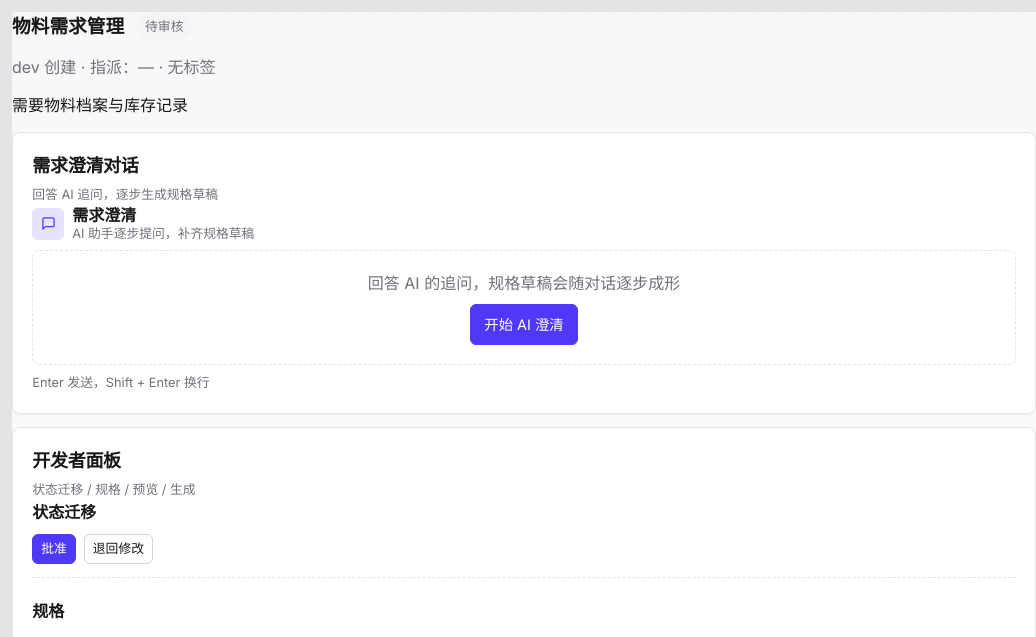
IssueDetail AI 对话（clarify，FR-ISSUE-03） › 开始澄清：首轮无回答→AI 追问渲染为对话
Step 1. Click the button "开始 AI 澄清" → [524, 325], box [470,304,578,345]
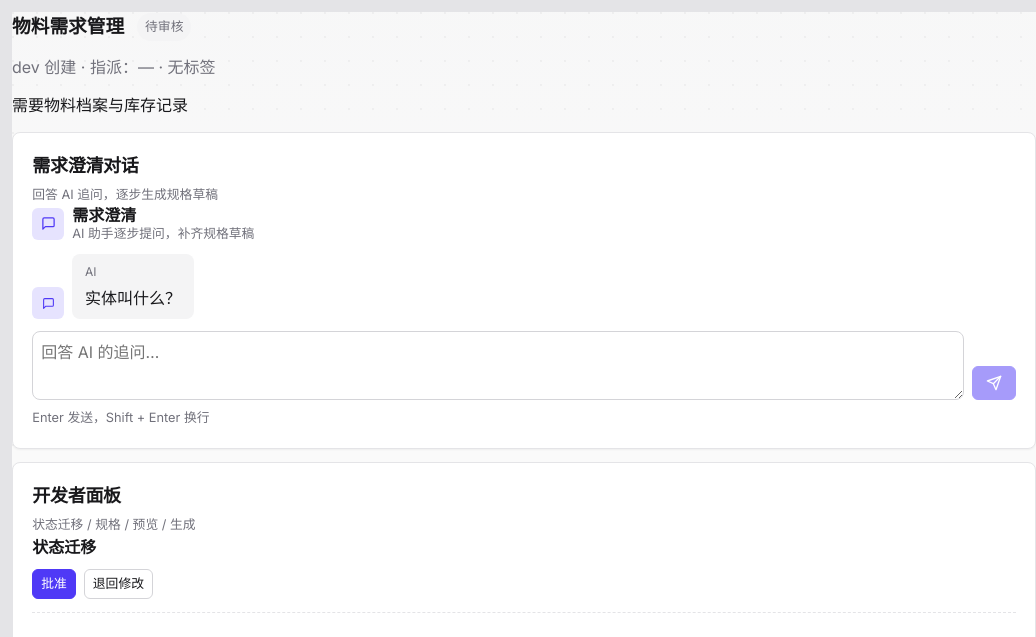
Result: the element with test id "clarify-chat" shows "实体叫什么？" at [85,288,181,308]
